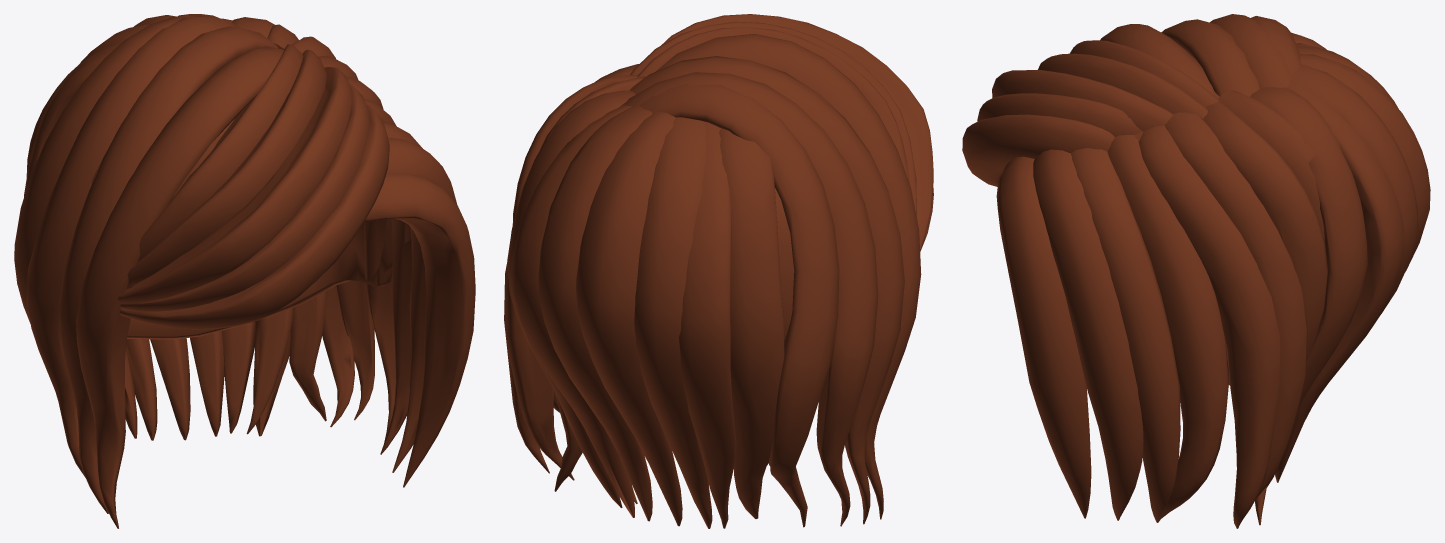
The model's file is hair-2-59cb8a24.glb.
3 renders of one model, left to right at view 1: azimuth 30°, elevation 25°; view 2: azimuth 150°, elevation 25°; view 3: azimuth 270°, elevation 25°, orthographic. The views are drawn at different scales.
Visible parts, largest first — view 1: hair_2.001; view 2: hair_2.001; view 3: hair_2.001.
Part boxes in pixels (x1,y1,x2,y2): hair_2.001: (14, 14, 475, 528); hair_2.001: (504, 14, 933, 528); hair_2.001: (962, 14, 1430, 528).
Bounding box in the file's own units: 2.01 × 2.36 × 2.31.
